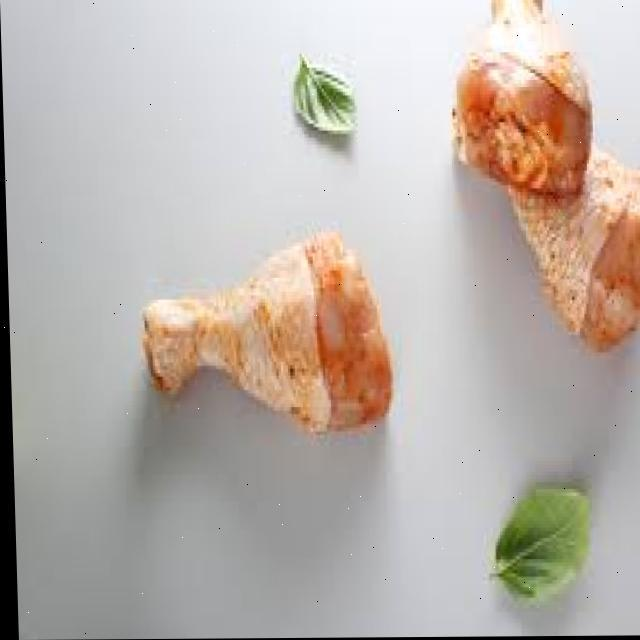leg: (126, 236, 396, 452), (508, 129, 640, 343), (448, 8, 592, 196)
